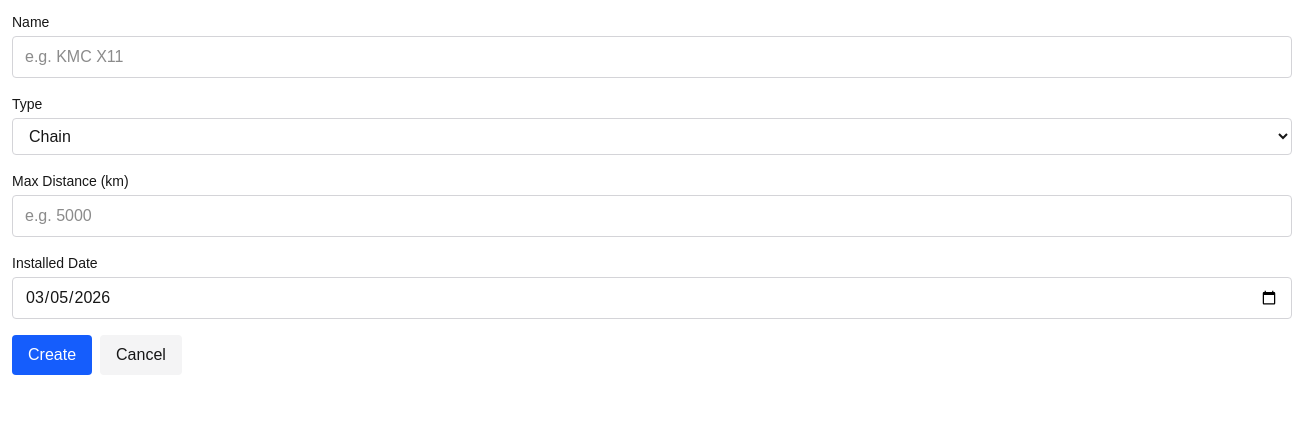
it: ComponentForm › shows error when max distance is invalid
Type "Test" into the field labelled "Name" at [652, 57], box [12,36,1292,78]
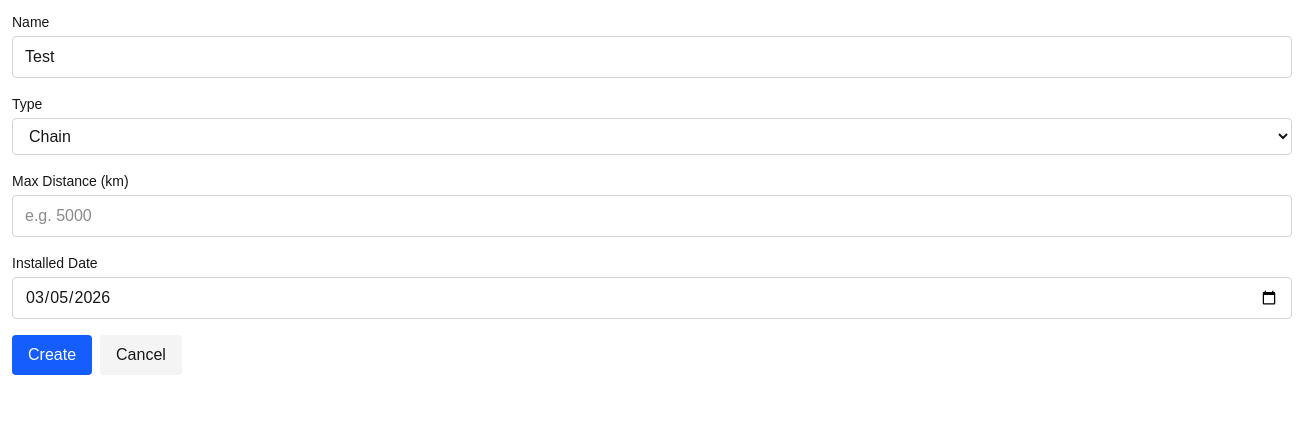
Click the button "Create" at [52, 355], box [12,335,92,375]
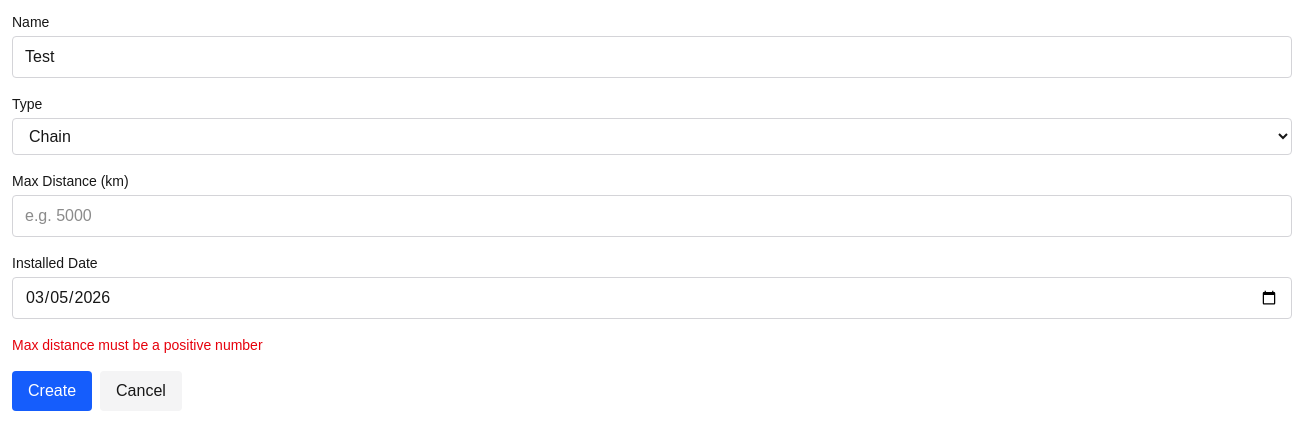
Now the text "Max distance must be a positive number" is shown, box [12,337,263,353]
